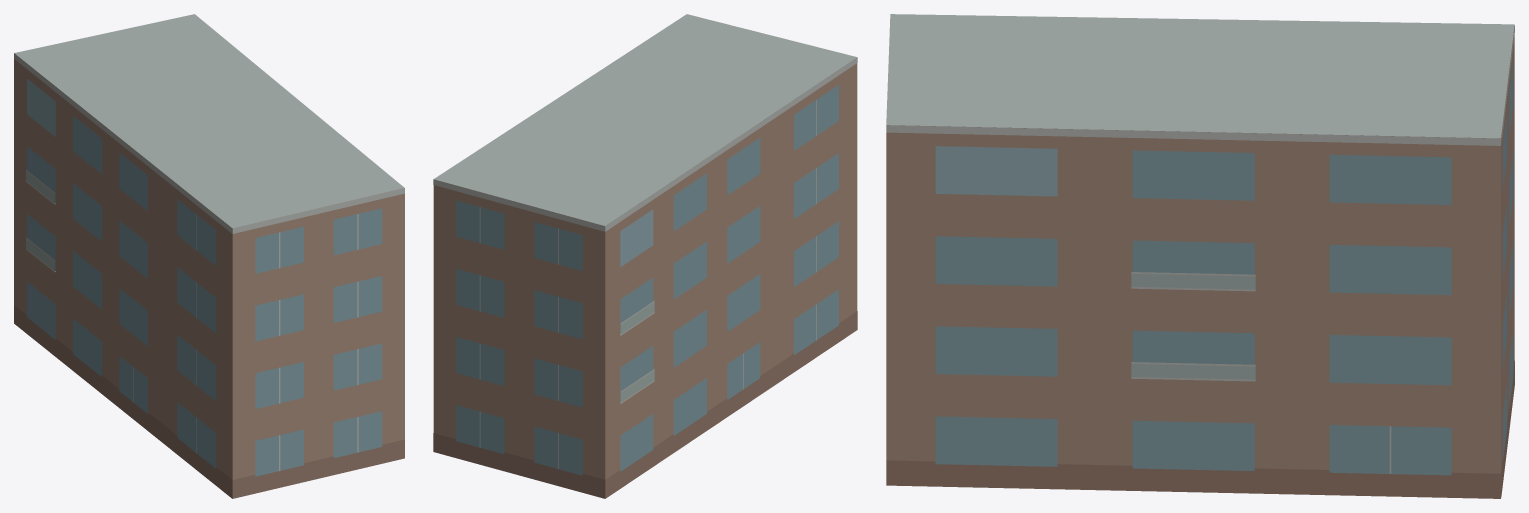
File: survey-upis-32665300.glb
The picture shows the model from 3 angles, left to right: view 1: azimuth 30°, elevation 25°; view 2: azimuth 150°, elevation 25°; view 3: azimuth 270°, elevation 25°; orthographic projection. The views are drawn at different scales.
Parts seen in each view (by area): view 1: survey-upis-32665300.tmp; view 2: survey-upis-32665300.tmp; view 3: survey-upis-32665300.tmp.
Part boxes in pixels (box(x1,y1,x2,y2)): survey-upis-32665300.tmp: box(14, 14, 404, 498); survey-upis-32665300.tmp: box(433, 14, 857, 498); survey-upis-32665300.tmp: box(886, 14, 1514, 498).
Size of the model in its own units: 8.67 by 11.7 by 18.5.
